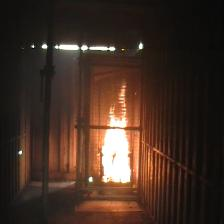fire: (102, 81, 131, 183)
